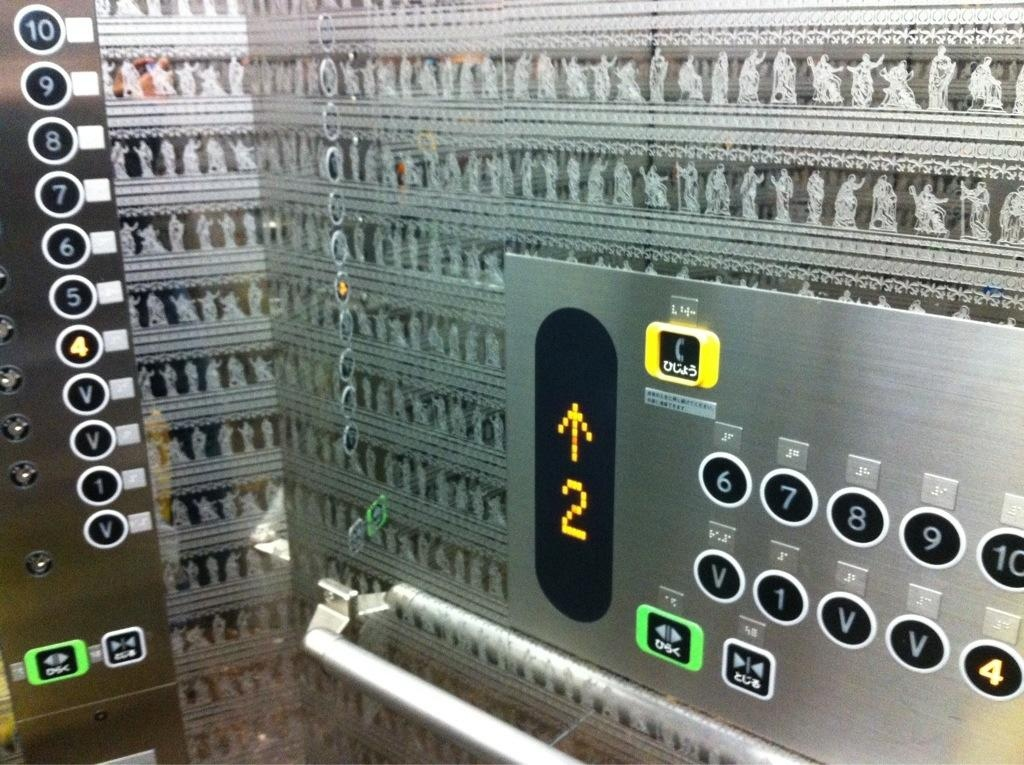1: (750, 569, 809, 626), (74, 466, 122, 507)
10: (978, 529, 1024, 593), (12, 5, 67, 58)
4: (958, 640, 1024, 700), (53, 325, 105, 367)
5: (43, 273, 100, 319)
6: (696, 445, 755, 510), (37, 221, 94, 269)
7: (758, 469, 819, 533), (33, 168, 87, 219)
8: (824, 486, 890, 547), (24, 114, 80, 166)
9: (899, 507, 965, 567), (17, 57, 76, 112)
V: (884, 613, 949, 672), (816, 591, 877, 651), (693, 549, 746, 603), (67, 417, 118, 463), (61, 372, 108, 415), (82, 508, 127, 551)
call: (641, 318, 719, 393)
close: (719, 638, 777, 701), (99, 623, 149, 669)
led: (533, 308, 616, 623)
open: (635, 604, 705, 673), (22, 636, 92, 688)
